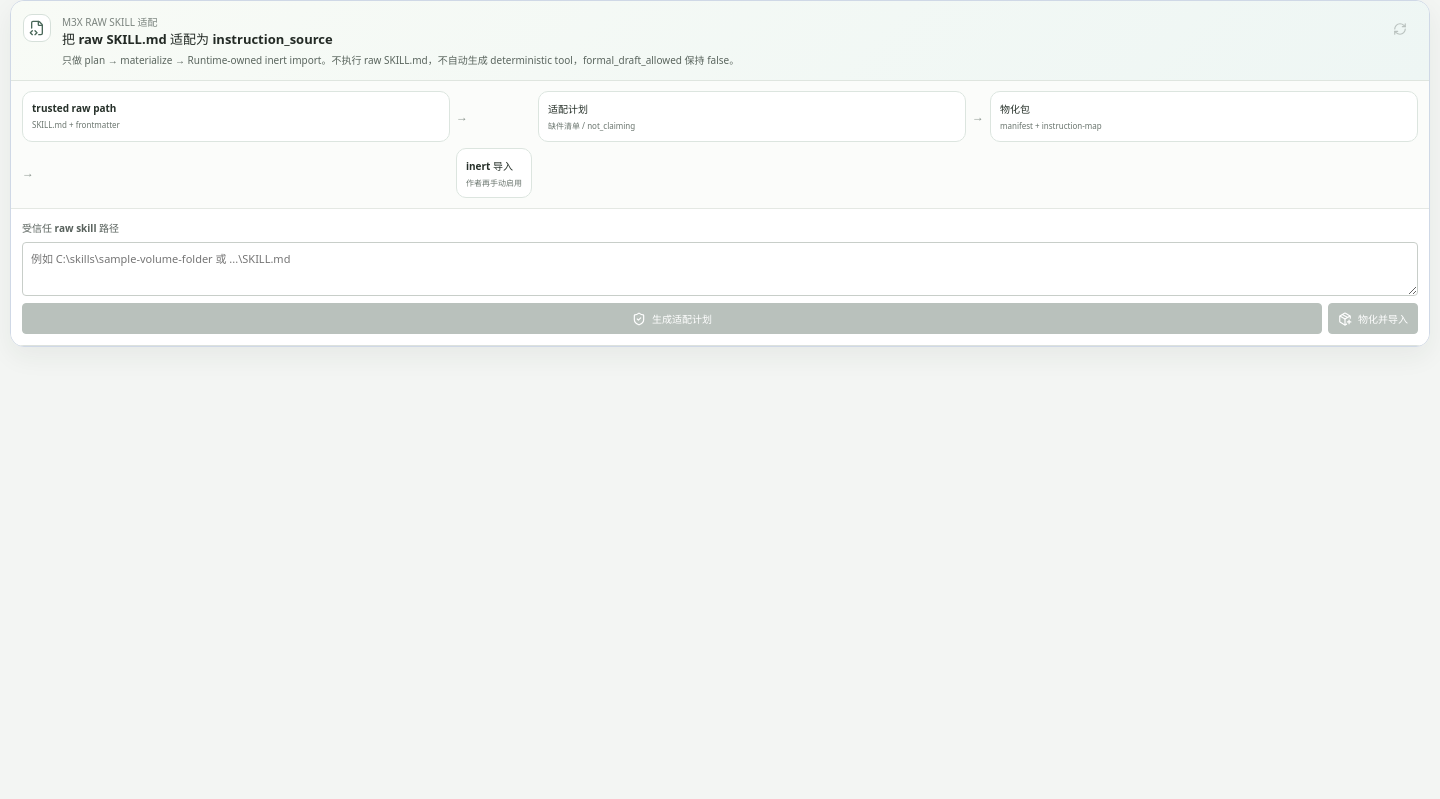
Scenario: SkillAdaptationPanel › plans and materializes a raw skill into an inert package
The width and height of the screenshot is (1440, 799).
Type "C:\\skills\\sample" into the text box labelled "受信任 raw skill 路径" at (720, 269), box [22,242,1418,296]
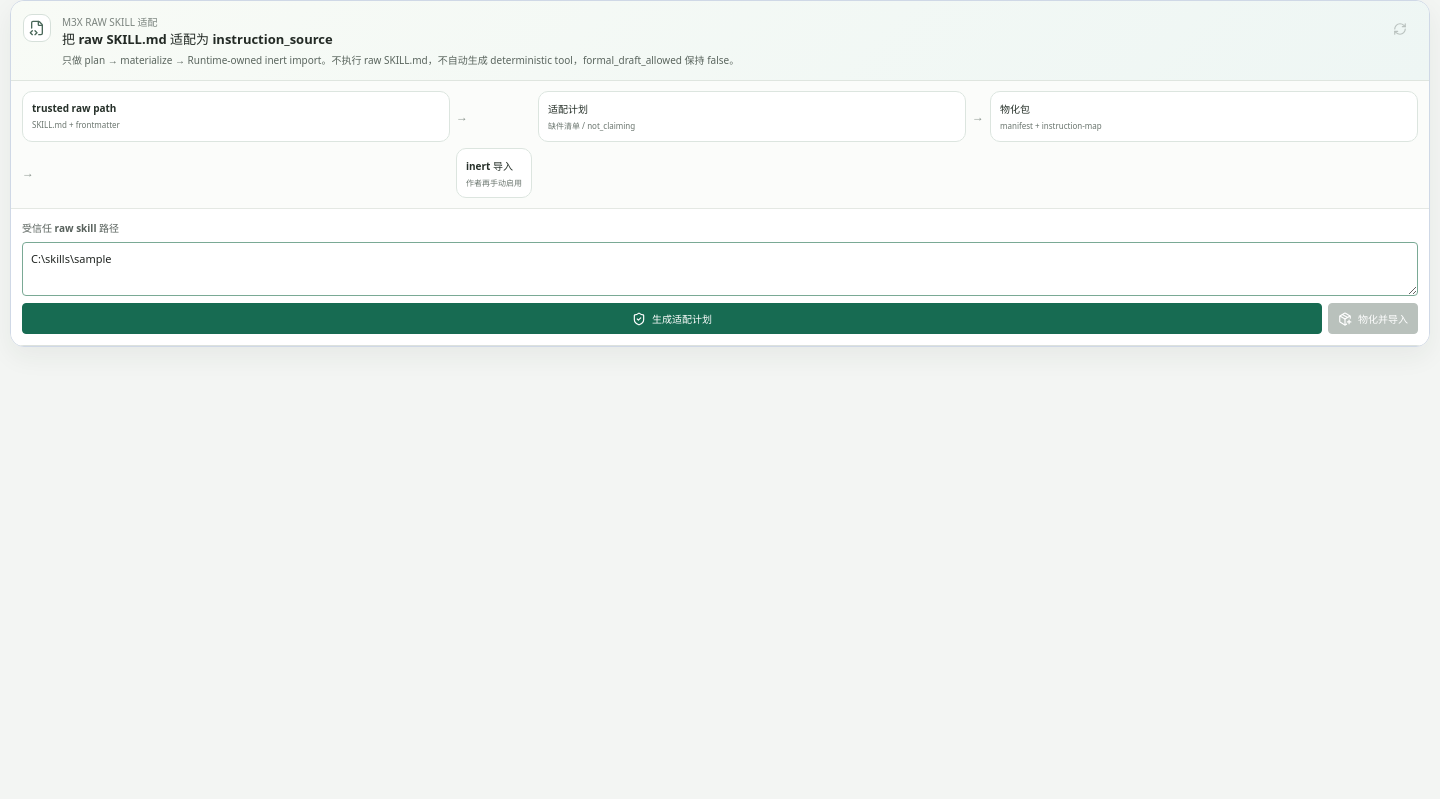
Click the button "生成适配计划" at (672, 319), box [22,303,1322,334]
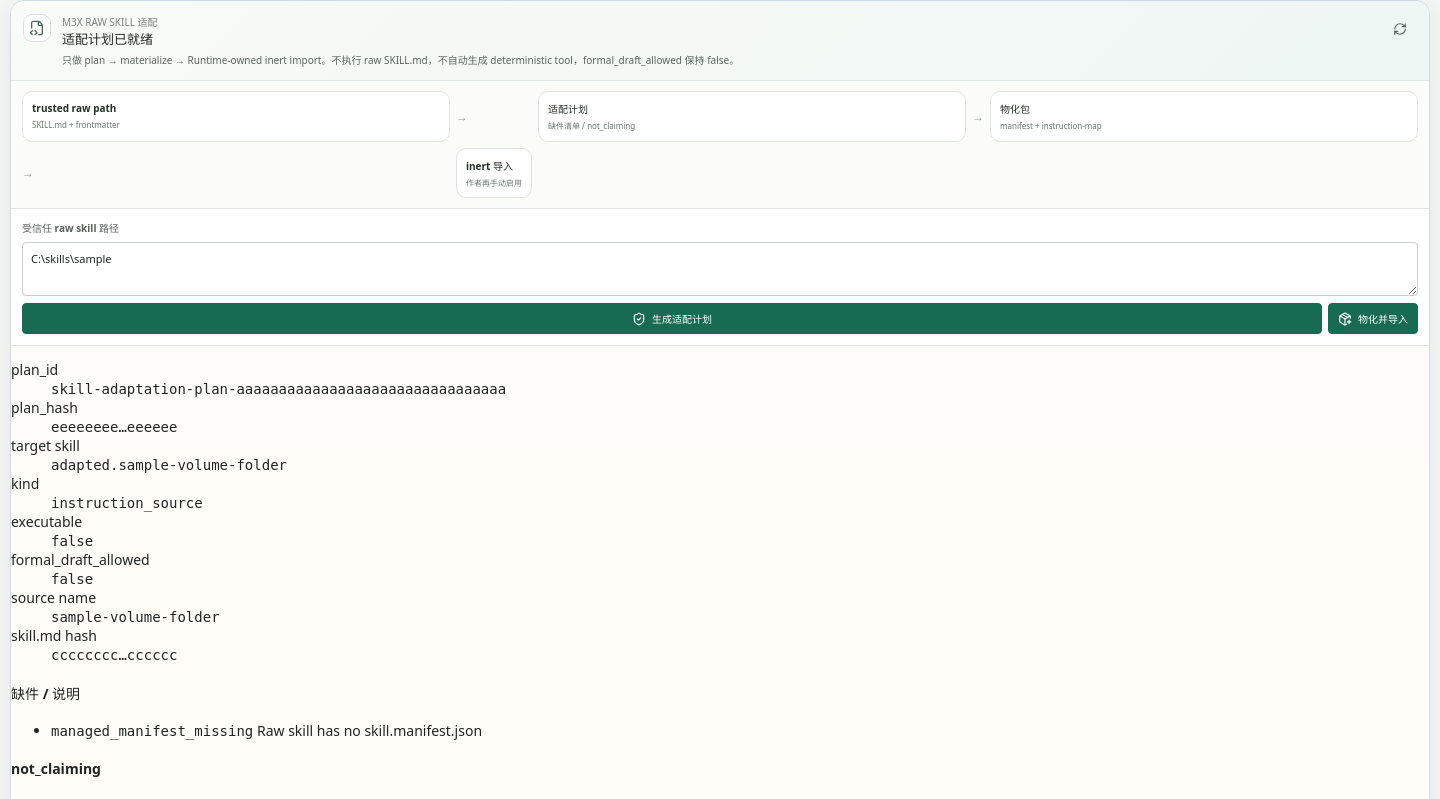
Expected: the heading "适配计划已就绪" is shown, [62,30,153,48]
Expected: the text "adapted.sample-volume-folder" is shown, [51,457,287,473]
Expected: the text "managed_manifest_missing" is shown, [51,724,253,740]
Click the button "物化并导入" at (1373, 319), box [1328,303,1418,334]
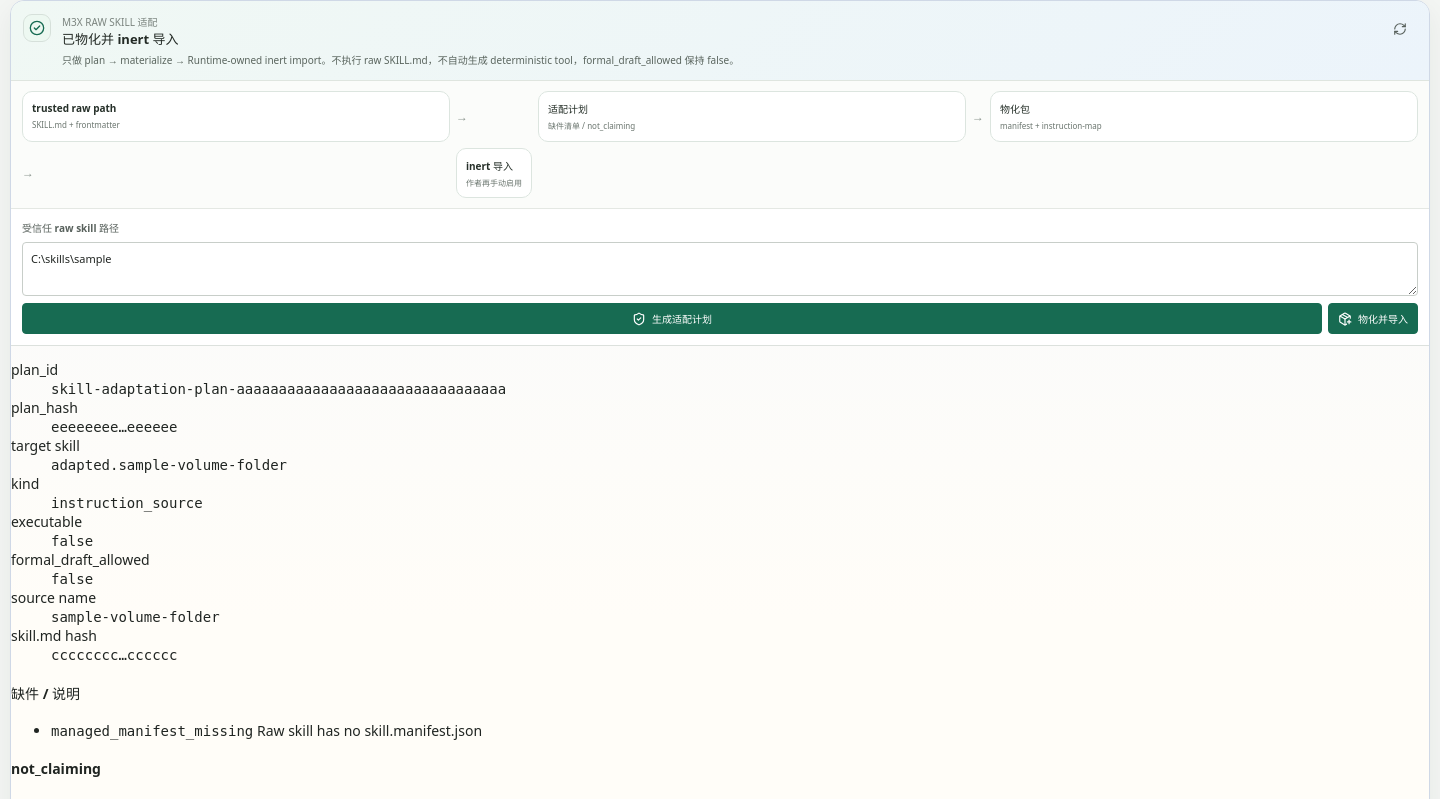
Expected: the heading "已物化并 inert 导入" is shown, [62,30,178,48]
